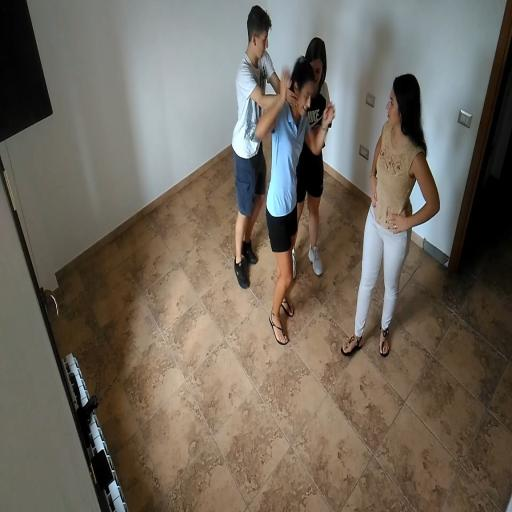violencia: (212, 0, 341, 359)
